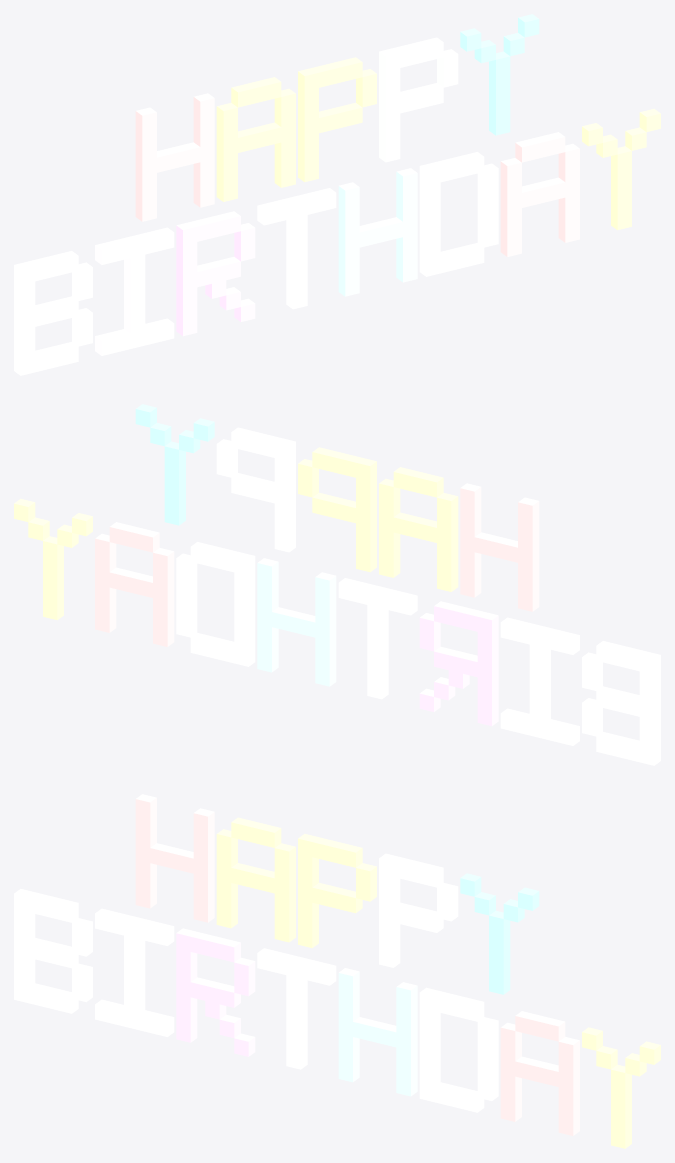
Rendered from Happy_birthday_letters.glb.
The picture shows the model from 3 angles, top to bottom: view 1: azimuth 30°, elevation 25°; view 2: azimuth 150°, elevation 25°; view 3: azimuth 330°, elevation 25°; orthographic projection.
Visible parts, largest first — view 1: A (×2), H (×2), P (×2), Y (×2), B, R, D, I, T; view 2: A (×2), H (×2), P (×2), Y (×2), B, R, D, I, T; view 3: A (×2), H (×2), P (×2), Y (×2), B, R, D, I, T.
Boxes of the visible parts, x1,y1,x2,y2 form: A (×2): (216,77,579,256); H (×2): (135,93,417,296); P (×2): (298,37,458,182); Y (×2): (460,14,660,230); B: (14,251,92,375); R: (176,211,255,336); D: (419,152,498,276); I: (95,227,174,355); T: (257,188,336,309); A (×2): (95,467,458,646); H (×2): (257,483,539,686); P (×2): (216,427,376,572); Y (×2): (14,404,214,620); B: (582,641,660,765); R: (419,601,498,726); D: (176,542,255,666); I: (500,617,579,745); T: (338,578,417,699); A (×2): (216,817,579,1135); H (×2): (135,794,417,1096); P (×2): (298,833,458,967); Y (×2): (460,873,660,1148); B: (14,889,92,1013); R: (176,928,255,1056); D: (419,987,498,1112); I: (95,908,174,1036); T: (257,948,336,1069).
Size of the model in its own units: 4.42 by 1.52 by 0.08.
